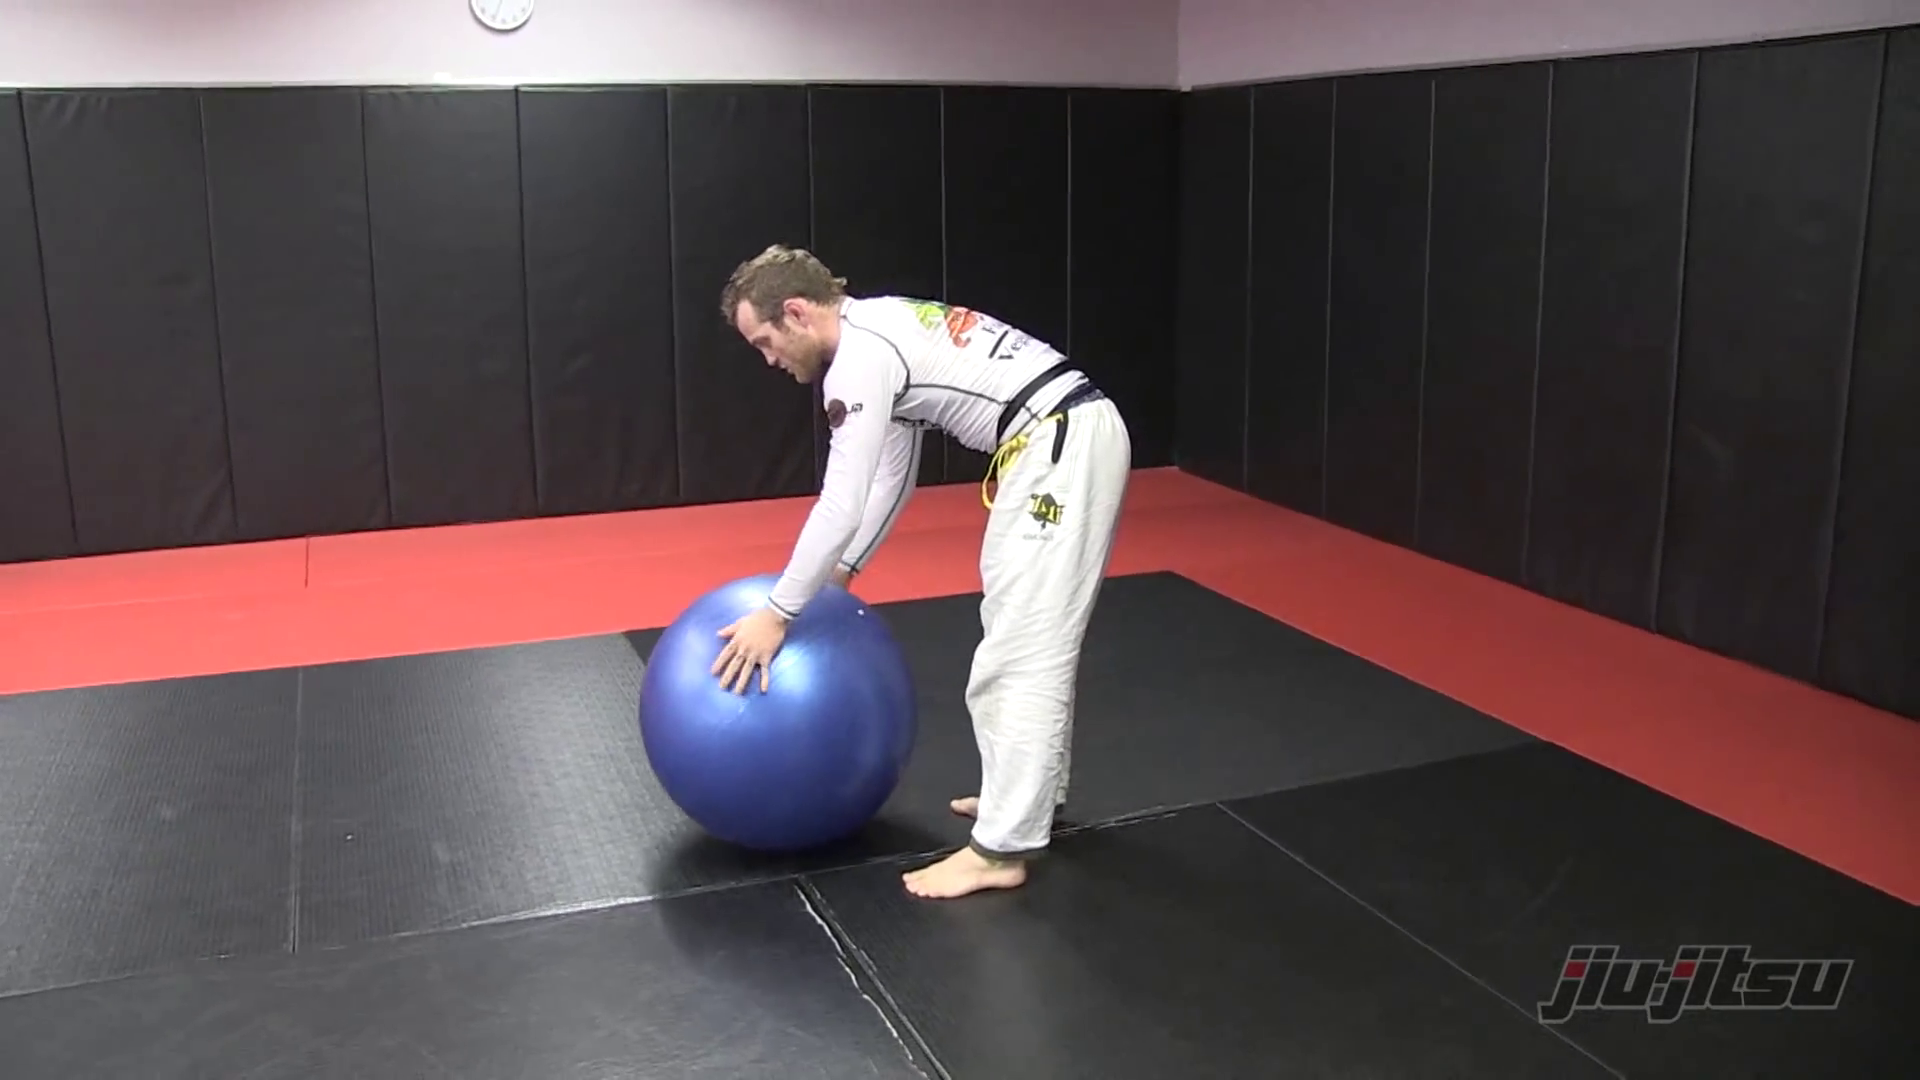yogaball: (624, 564, 935, 862)
